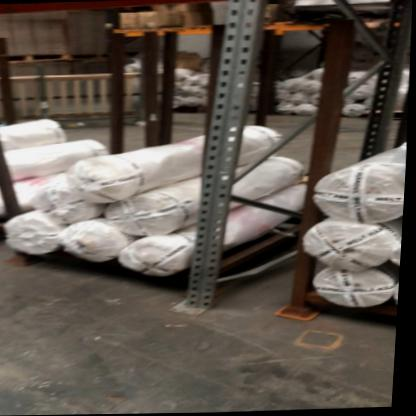vertical_damage: (171, 282, 233, 328)
